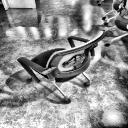chair_success: (16, 29, 108, 105)
